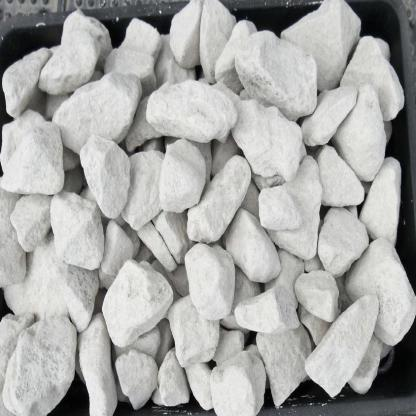Sedimentary_Chalk: (1, 315, 82, 415), (306, 283, 382, 383), (95, 259, 173, 347), (141, 75, 238, 140), (236, 35, 318, 110), (35, 15, 111, 94), (266, 155, 320, 266), (182, 155, 253, 237), (1, 110, 67, 196), (330, 85, 389, 180), (52, 192, 102, 278), (77, 137, 134, 209), (207, 350, 266, 416), (320, 210, 376, 272), (188, 243, 236, 315), (237, 284, 298, 330)
